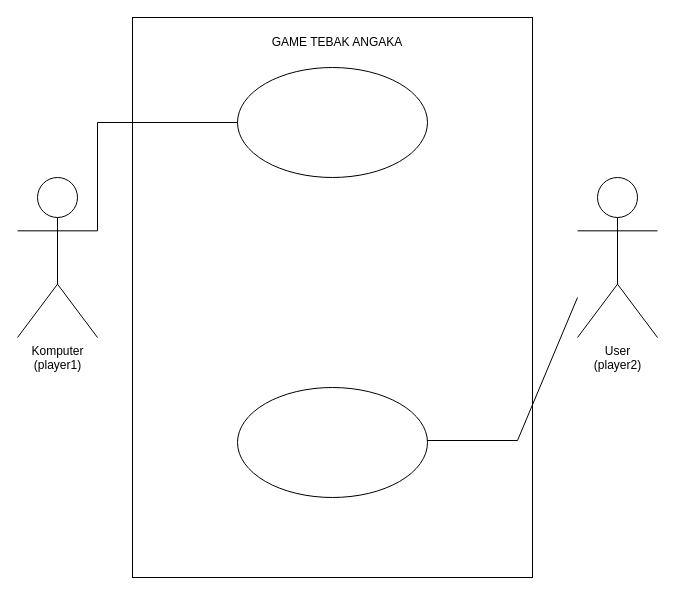
The diagram is 675 pixels wide and 595 high, and some of its shapes have lost their labels. The centre of each missing label's shape, as x and y in pixels:
"Random Angka" belongs at point 332,122.
"Tebak Angka" belongs at point 332,442.
